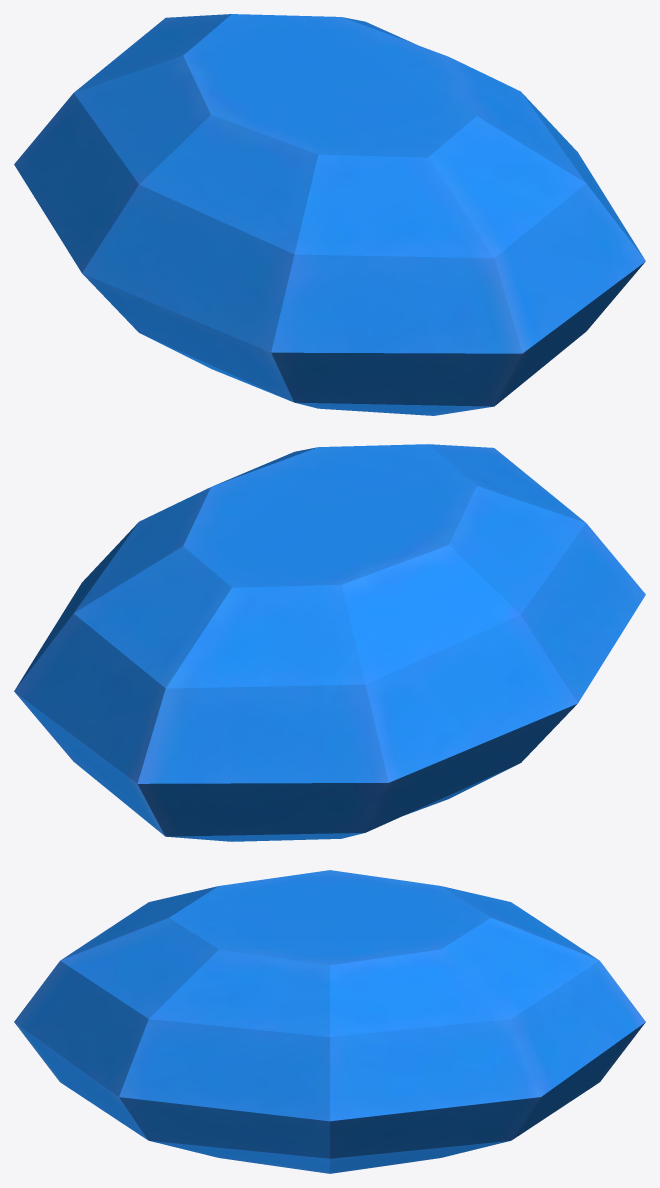
Rendered from pm-gem-03.glb.
The picture shows the model from 3 angles, top to bottom: view 1: azimuth 30°, elevation 25°; view 2: azimuth 150°, elevation 25°; view 3: azimuth 270°, elevation 25°; orthographic projection. The views are drawn at different scales.
Visible parts, largest first — view 1: Gem03_Art; view 2: Gem03_Art; view 3: Gem03_Art.
Boxes of the visible parts, bbox=[...] form: Gem03_Art: bbox=[14, 14, 645, 415]; Gem03_Art: bbox=[14, 444, 645, 841]; Gem03_Art: bbox=[14, 870, 645, 1173].
Size of the model in its own units: 0.2884 by 0.1412 by 0.3877.
Materials: 1 (1 with a texture image).
